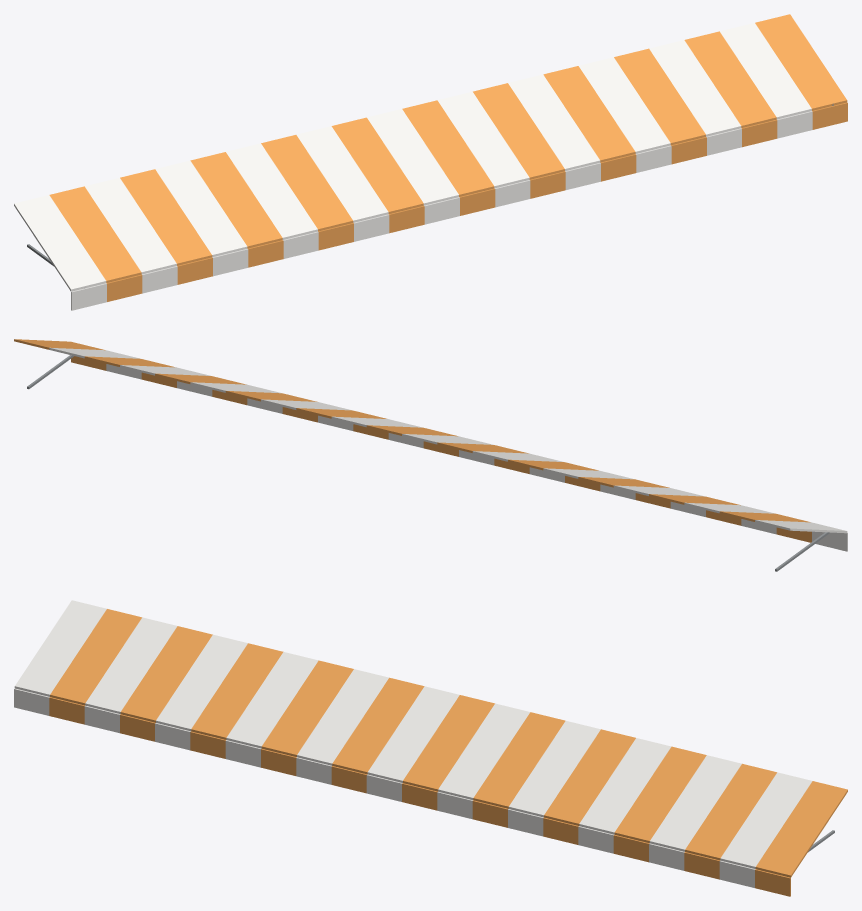
The model's file is fv_awning.glb.
3 views of the same model, one above another, from view 1: azimuth 30°, elevation 25°; view 2: azimuth 150°, elevation 25°; view 3: azimuth 330°, elevation 25° (orthographic).
Parts seen in each view (by area): view 1: fv_awning; view 2: fv_awning; view 3: fv_awning.
Boxes of the visible parts, <box> form: fv_awning: <box>14,14,847,310</box>; fv_awning: <box>14,339,847,571</box>; fv_awning: <box>14,600,847,896</box>.
Size of the model in its own units: 11 by 0.8795 by 1.42.
